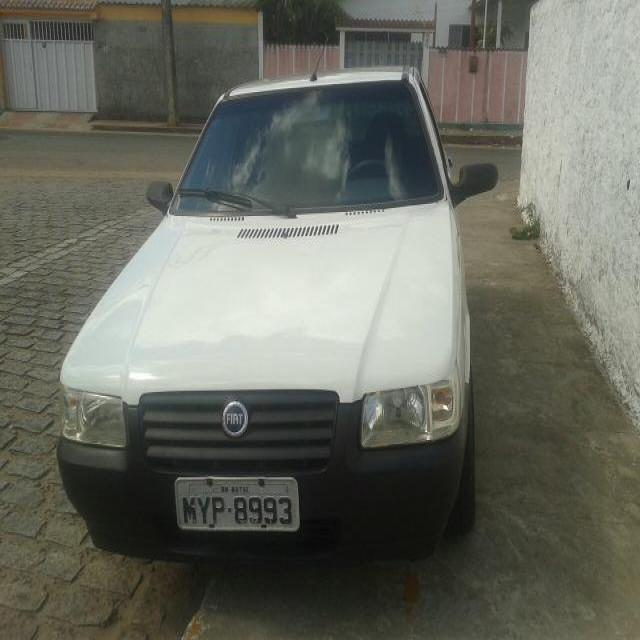Placa: (174, 471, 304, 537)
